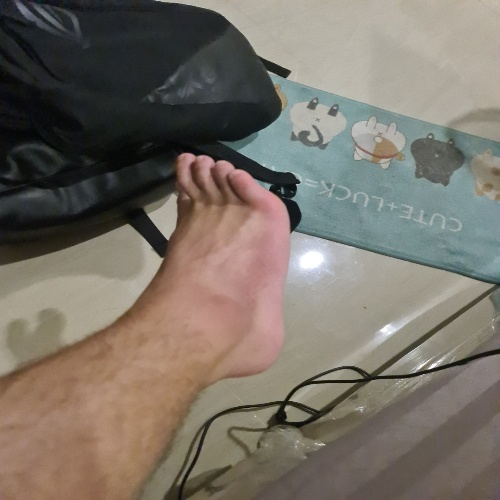4: (252, 311, 283, 375)
Top_Foot: (175, 154, 288, 378)
